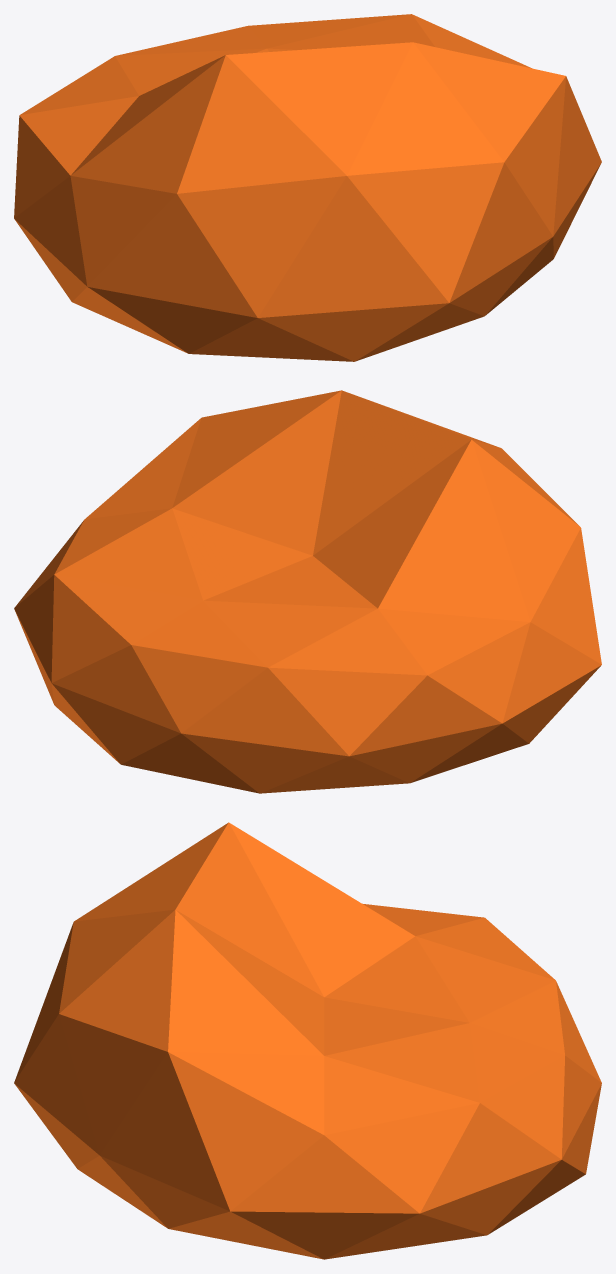
The picture shows the model from 3 angles, top to bottom: view 1: azimuth 30°, elevation 25°; view 2: azimuth 150°, elevation 25°; view 3: azimuth 270°, elevation 25°; orthographic projection. The views are drawn at different scales.
Visible parts, largest first — view 1: bag; view 2: bag; view 3: bag.
Boxes of the visible parts, x1,y1,x2,y2 form: bag: [14, 14, 601, 361]; bag: [14, 390, 601, 793]; bag: [14, 822, 601, 1259].
Size of the model in its own units: 0.8246 by 0.3916 by 0.7983.
